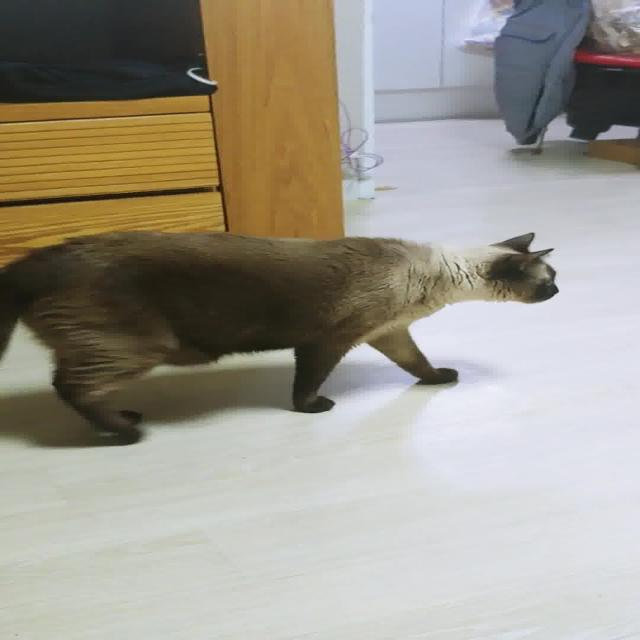cat: (0, 200, 579, 451)
